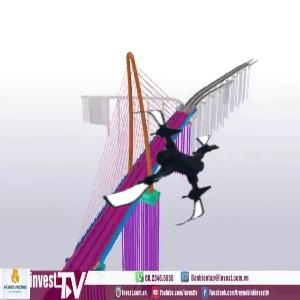drone: (97, 105, 227, 235)
